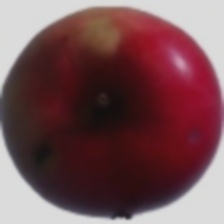apple: (39, 39, 217, 184)
